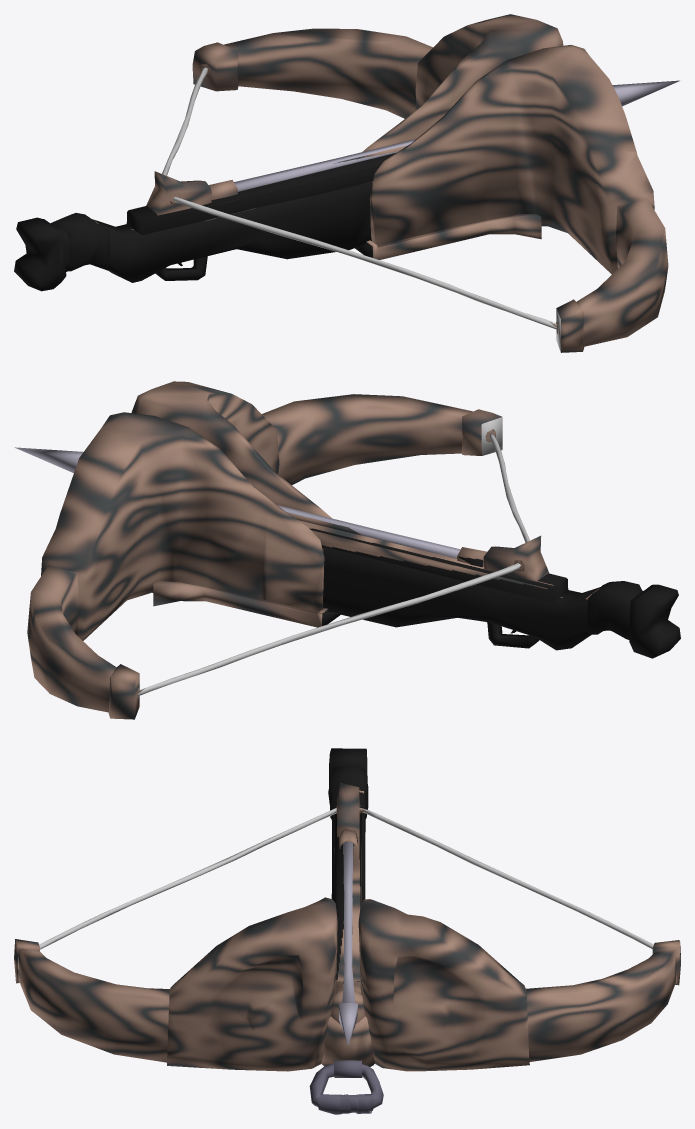
Rendered from Арбалет.fbx.
The picture shows the model from 3 angles, top to bottom: view 1: azimuth 30°, elevation 25°; view 2: azimuth 150°, elevation 25°; view 3: azimuth 270°, elevation 25°; orthographic projection. The views are drawn at different scales.
Parts seen in each view (by area): view 1: 1_low; view 2: 1_low; view 3: 1_low.
Part boxes in pixels (box(x1,y1,x2,y2)): 1_low: box(14, 14, 679, 352); 1_low: box(14, 381, 680, 719); 1_low: box(14, 748, 680, 1114).
Size of the model in its own units: 2.87 by 0.7698 by 2.79.
1 material, 1 textured.
